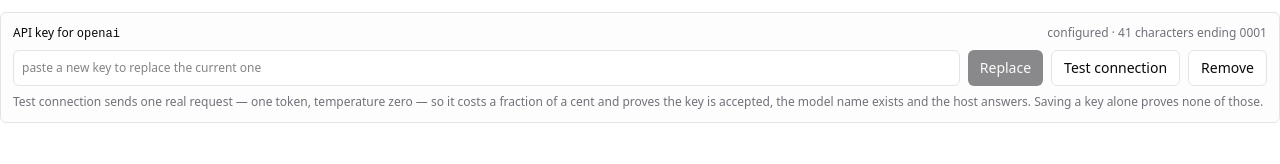
Scenario: testing the connection for real › distinguishes not reaching the server from the server refusing
The image size is (1280, 164).
Step 1. Click the button with test id "cred-test-openai" → x=1116, y=68, box [1051, 50, 1180, 86]
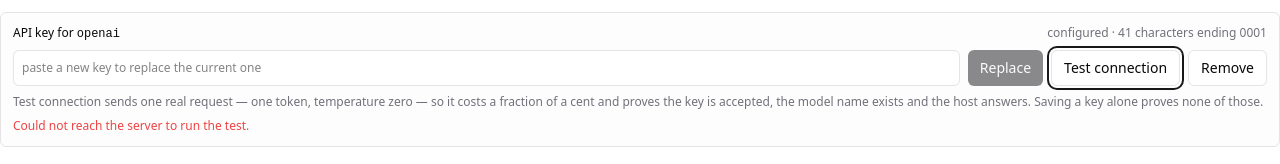
Expected: the text with test id "cred-error-openai" shows "Could not reach the server to run the test", [13, 117, 249, 134]
